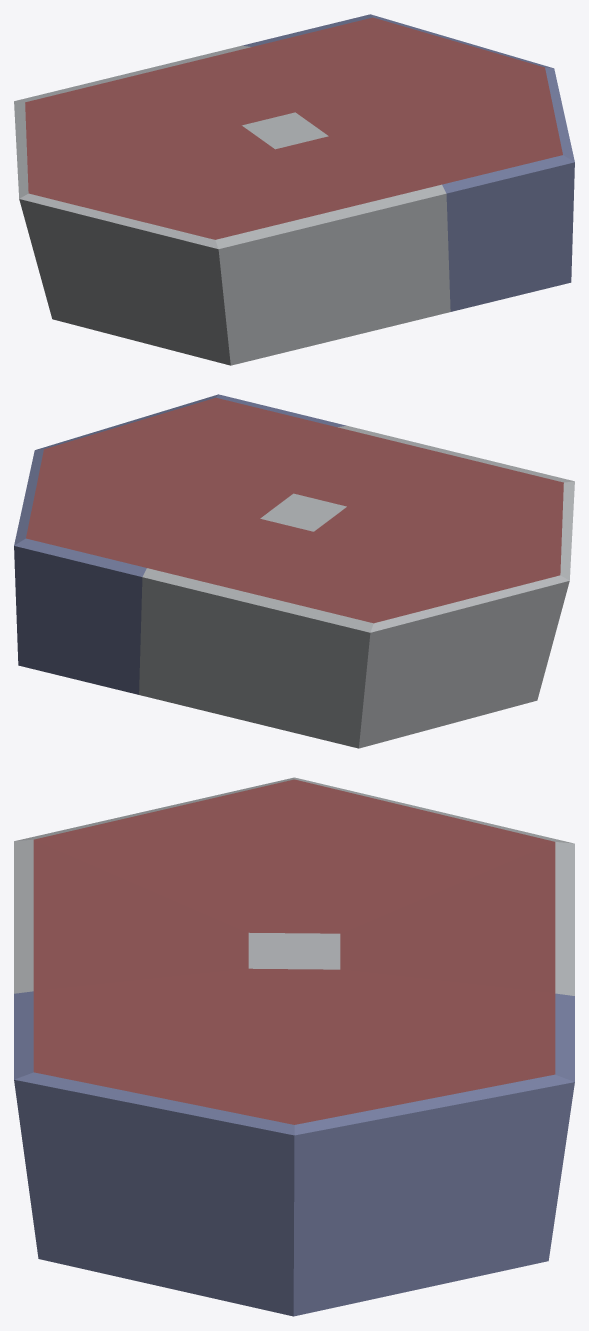
File: tunaSlice.fbx
The picture shows the model from 3 angles, top to bottom: view 1: azimuth 30°, elevation 25°; view 2: azimuth 150°, elevation 25°; view 3: azimuth 270°, elevation 25°; orthographic projection. The views are drawn at different scales.
Visible parts, largest first — view 1: tunaSlice; view 2: tunaSlice; view 3: tunaSlice.
Part boxes in pixels (x1,y1,x2,y2): tunaSlice: (14, 14, 574, 365); tunaSlice: (14, 394, 574, 748); tunaSlice: (14, 777, 574, 1316).
Size of the model in its own units: 27.99 by 6.69 by 18.26.
1 material, 1 textured.
